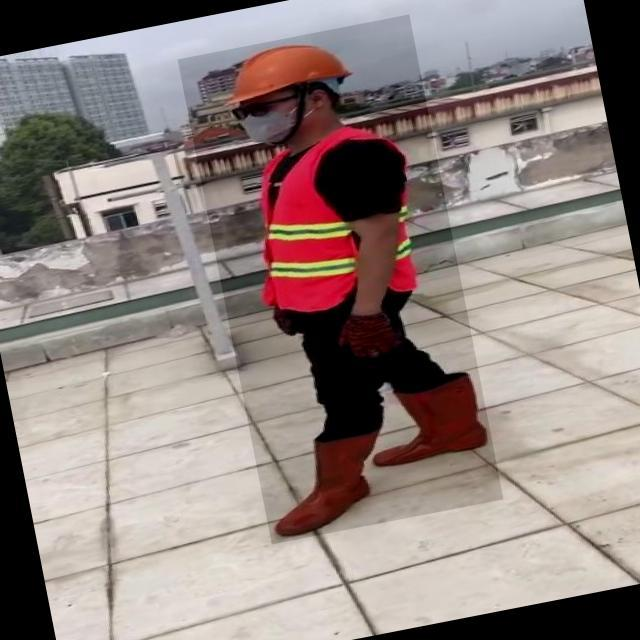Gloves: (331, 307, 404, 363)
Helmet: (216, 33, 356, 109)
Human: (178, 15, 504, 545)
Safety Boot: (258, 430, 393, 540), (371, 373, 493, 468)
Safety Vest: (239, 122, 423, 316)
